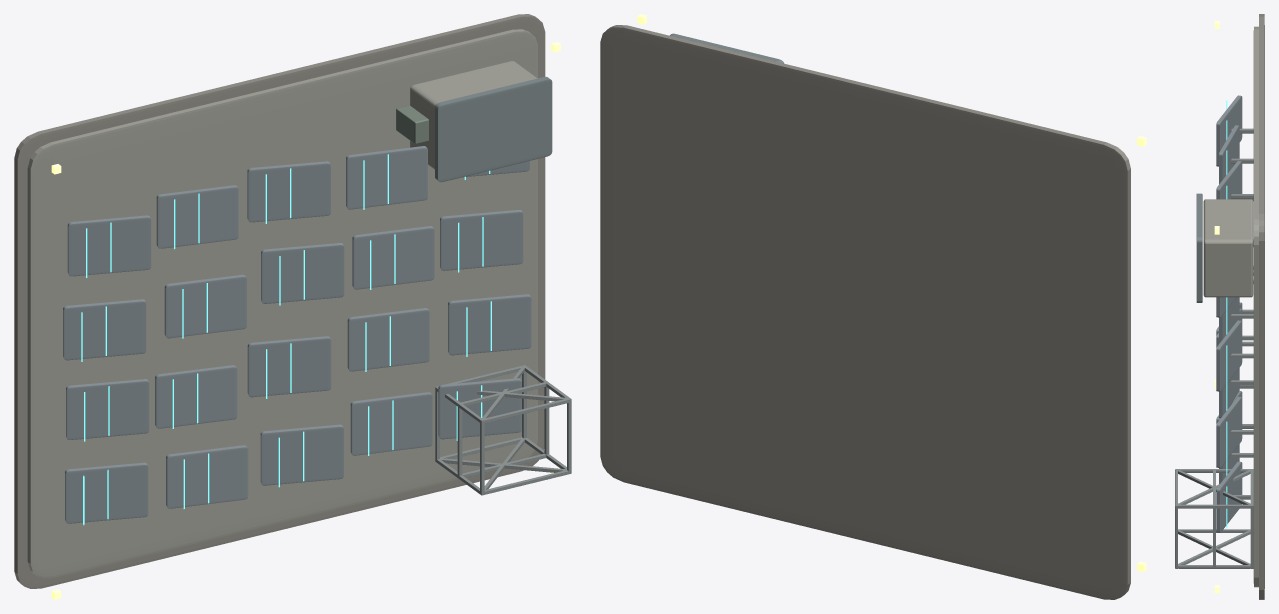
File: b-48-neutral-solar-farm-lod1.glb
3 renders of one model, left to right at view 1: azimuth 30°, elevation 25°; view 2: azimuth 150°, elevation 25°; view 3: azimuth 270°, elevation 25°, orthographic. The views are drawn at different scales.
Parts seen in each view (by area): view 1: foundation_inner_pad, foundation, inverter_house_roof, solar_1_2_panel, solar_3_0_panel, solar_2_0_panel, solar_0_0_panel, solar_1_4_panel, solar_1_0_panel, solar_2_2_panel, solar_2_4_panel, solar_0_2_panel (+12 smaller); view 2: foundation; view 3: inverter_house_main_hall, foundation, foundation_inner_pad, solar_2_4_panel, solar_1_4_panel, solar_0_4_panel, solar_3_0_panel, inverter_house_roof, solar_3_1_panel, solar_3_2_panel, solar_1_3_panel, solar_2_3_panel (+14 smaller).
Boxes of the visible parts, x1,y1,x2,y2 form: foundation_inner_pad: (27, 29, 537, 578); foundation: (14, 14, 545, 588); inverter_house_roof: (435, 77, 552, 182); solar_1_2_panel: (247, 336, 331, 397); solar_3_0_panel: (67, 215, 151, 276); solar_2_0_panel: (63, 299, 146, 360); solar_0_0_panel: (65, 462, 148, 523); solar_1_4_panel: (448, 294, 531, 355); solar_1_0_panel: (66, 379, 149, 439); solar_2_2_panel: (261, 243, 344, 303); solar_2_4_panel: (440, 210, 523, 270); solar_0_2_panel: (260, 424, 343, 485); foundation: (600, 25, 1130, 599); inverter_house_main_hall: (1203, 199, 1253, 297); foundation: (1259, 14, 1264, 599); foundation_inner_pad: (1253, 26, 1258, 587); solar_2_4_panel: (1216, 320, 1242, 391); solar_1_4_panel: (1216, 396, 1242, 467); solar_0_4_panel: (1216, 461, 1242, 532); solar_3_0_panel: (1216, 95, 1242, 166); inverter_house_roof: (1196, 193, 1202, 302); solar_3_1_panel: (1219, 125, 1239, 184); solar_3_2_panel: (1216, 160, 1242, 199); solar_1_3_panel: (1219, 368, 1239, 418); solar_2_3_panel: (1219, 297, 1239, 343).
Size of what is drawn, in the model's own units: 17 by 14 by 2.97.
